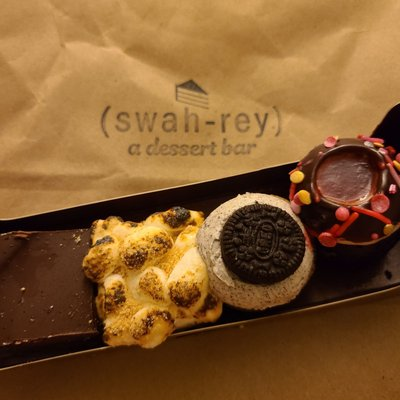salad: (197, 193, 316, 312)
